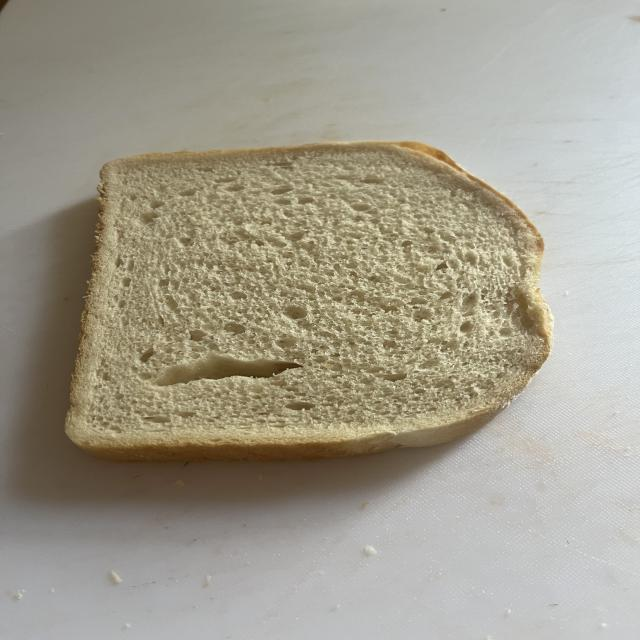sliced_bread: (66, 142, 551, 461)
